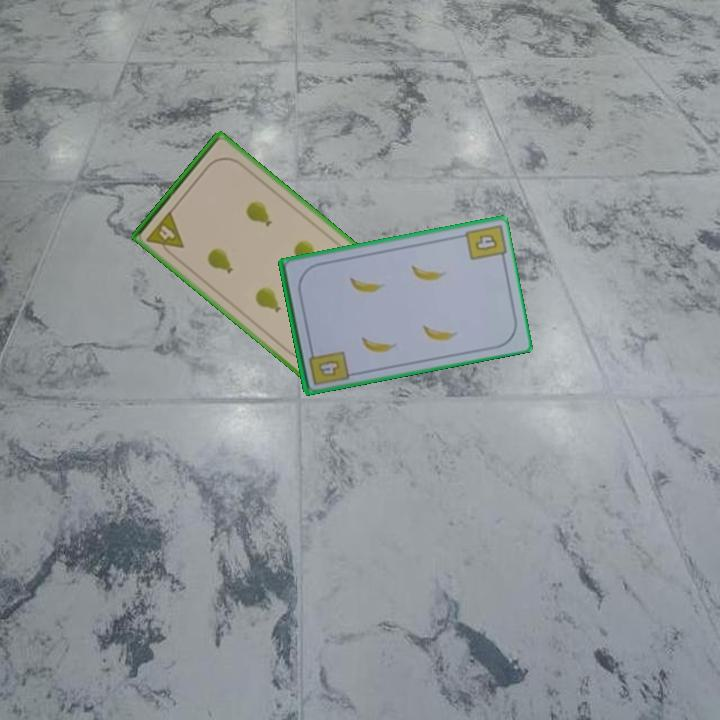4b: (305, 344, 351, 388), (472, 230, 501, 253)
4p: (143, 207, 187, 260)
